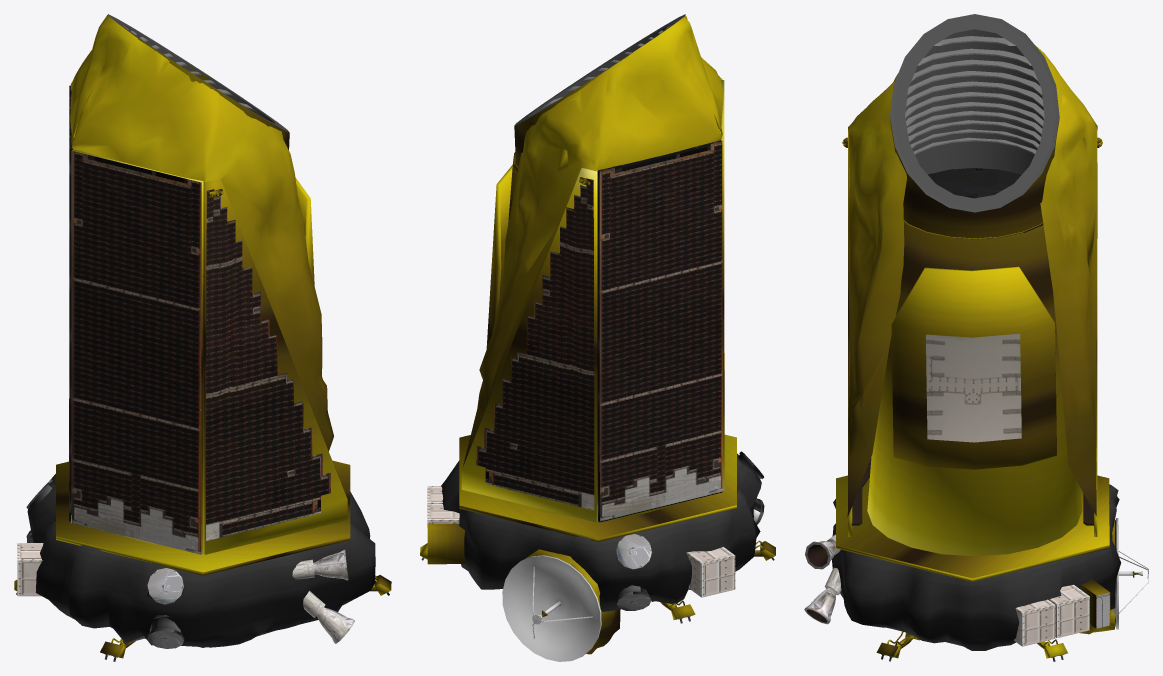
File: kepler.glb
The picture shows the model from 3 angles, left to right: view 1: azimuth 30°, elevation 25°; view 2: azimuth 150°, elevation 25°; view 3: azimuth 270°, elevation 25°; orthographic projection. The views are drawn at different scales.
Visible parts, largest first — view 1: tex_01.001, foil_gold, foil_silver; view 2: tex_01.001, foil_gold, foil_silver, dish_AO; view 3: foil_gold, tex_01.001, foil_silver, dish_AO.
Boxes of the visible parts, x1,y1,x2,y2 form: tex_01.001: (17, 14, 354, 648); foil_gold: (14, 14, 391, 658); foil_silver: (16, 474, 389, 661); tex_01.001: (427, 14, 735, 610); foil_gold: (420, 14, 775, 654); foil_silver: (421, 451, 774, 623); dish_AO: (502, 555, 601, 661); foil_gold: (836, 45, 1138, 658); tex_01.001: (804, 14, 1110, 646); foil_silver: (832, 484, 1120, 661); dish_AO: (1113, 518, 1148, 629).
Bounding box in the file's own units: 2.65 × 5.01 × 2.66.
5 materials, 5 textured.
